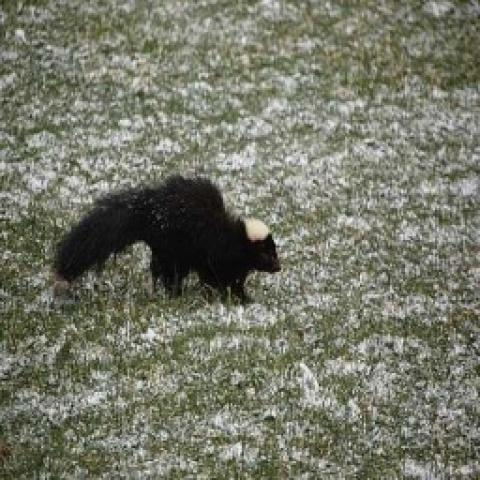small_animal: (49, 170, 283, 306)
